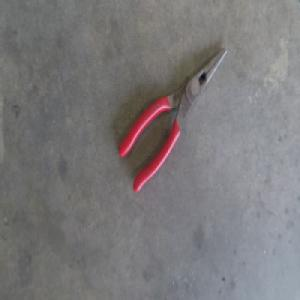Pliers: (117, 44, 230, 197)
